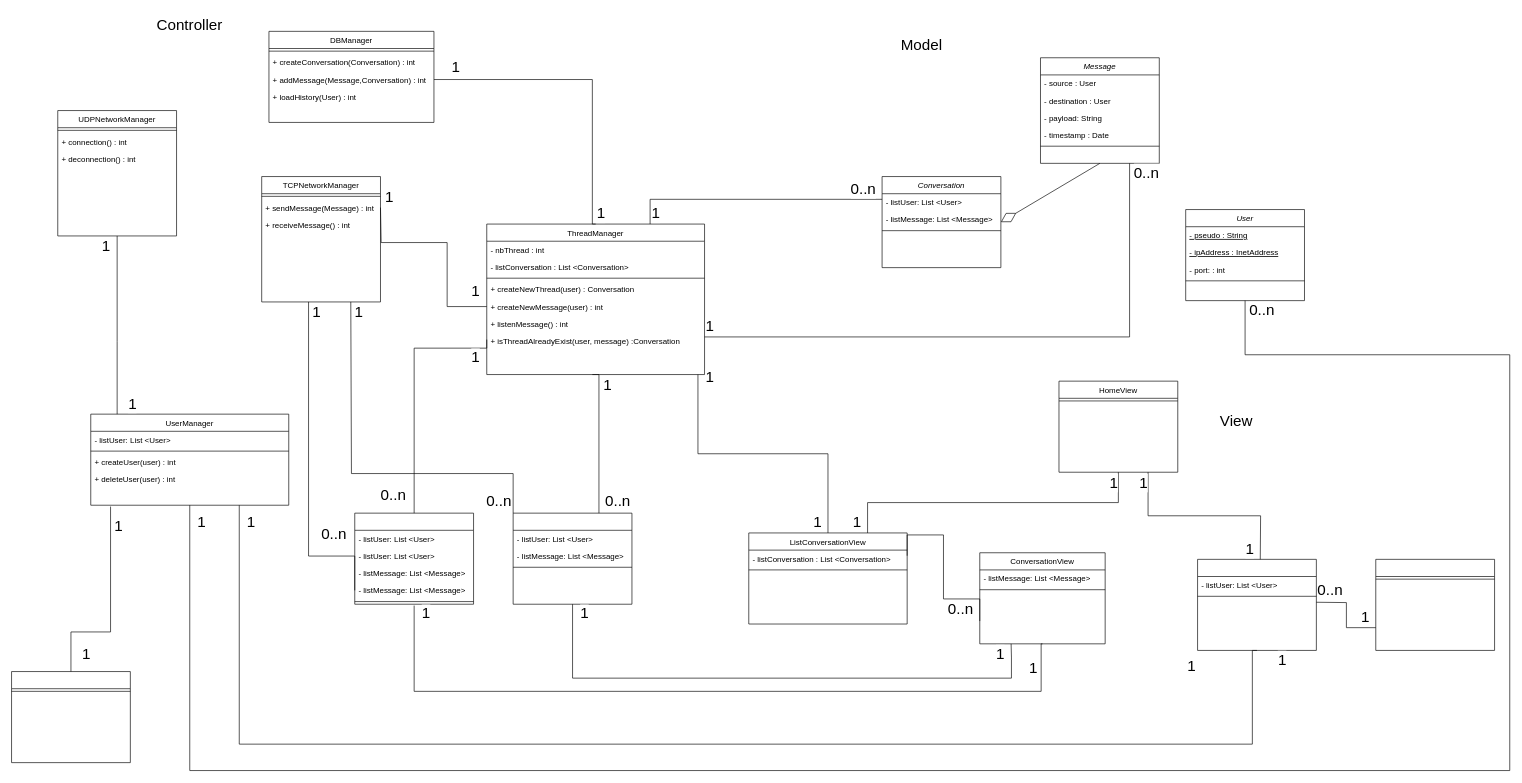
This 1522x783 diagram has some shape labels left out. The shapes that lost their labels are listed below. From the top down, each one's box as (x1, y1, x2, y2) in pixels, then its label:
(354, 512, 474, 604): ReceiverThread
(512, 512, 632, 604): TransmitterThread
(1197, 559, 1316, 650): ListUserView
(1375, 559, 1495, 650): InfoUserView
(11, 671, 130, 763): UDPThread
